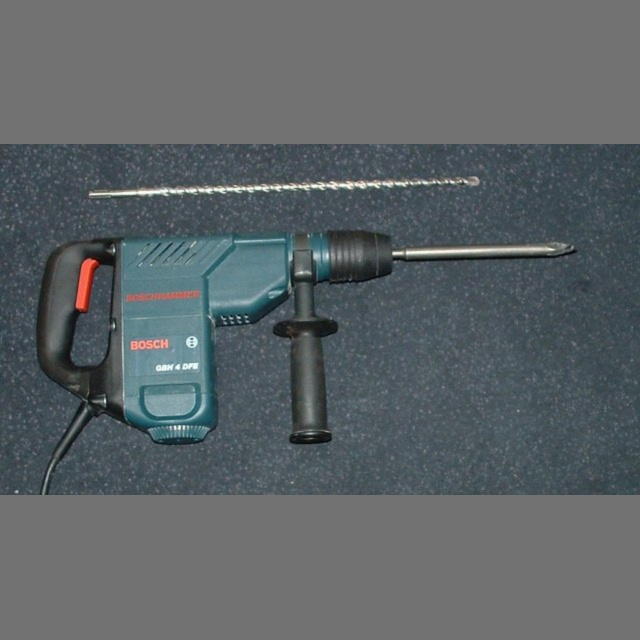drill: (34, 230, 576, 445)
